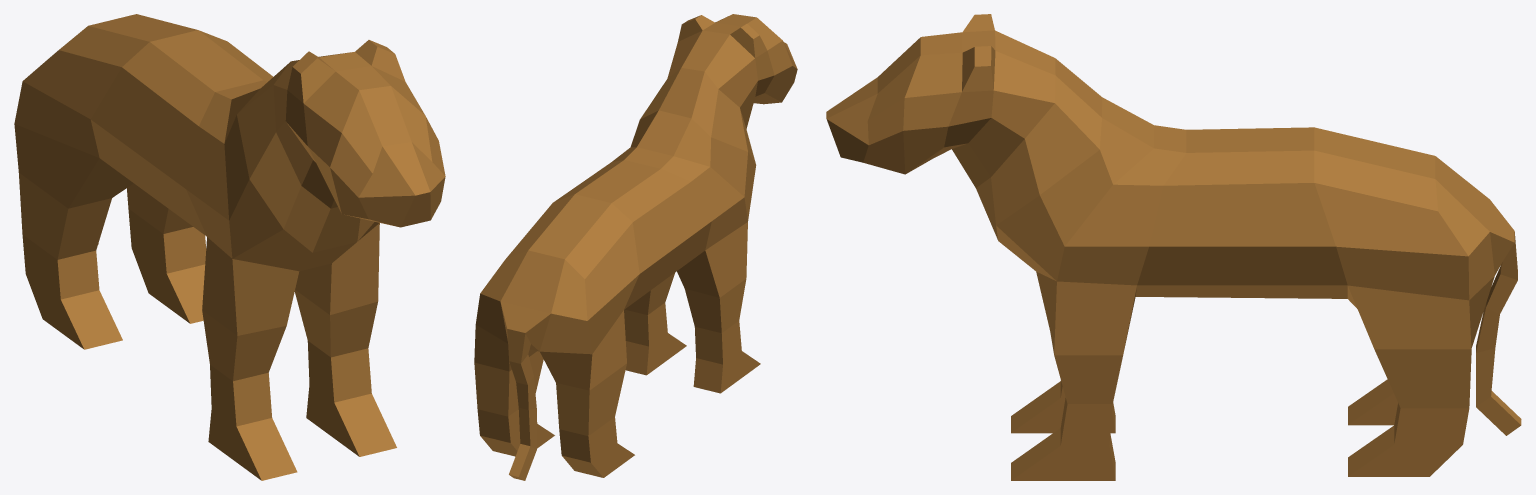
Rendered from Tiger.fbx.
The picture shows the model from 3 angles, left to right: view 1: azimuth 30°, elevation 25°; view 2: azimuth 150°, elevation 25°; view 3: azimuth 270°, elevation 25°; orthographic projection. The views are drawn at different scales.
Visible parts, largest first — view 1: pCube1; view 2: pCube1; view 3: pCube1.
Boxes of the visible parts, x1,y1,x2,y2 form: pCube1: [14, 14, 445, 480]; pCube1: [474, 14, 797, 480]; pCube1: [826, 14, 1521, 480].
Size of the model in its own units: 43.84 by 115 by 172.
